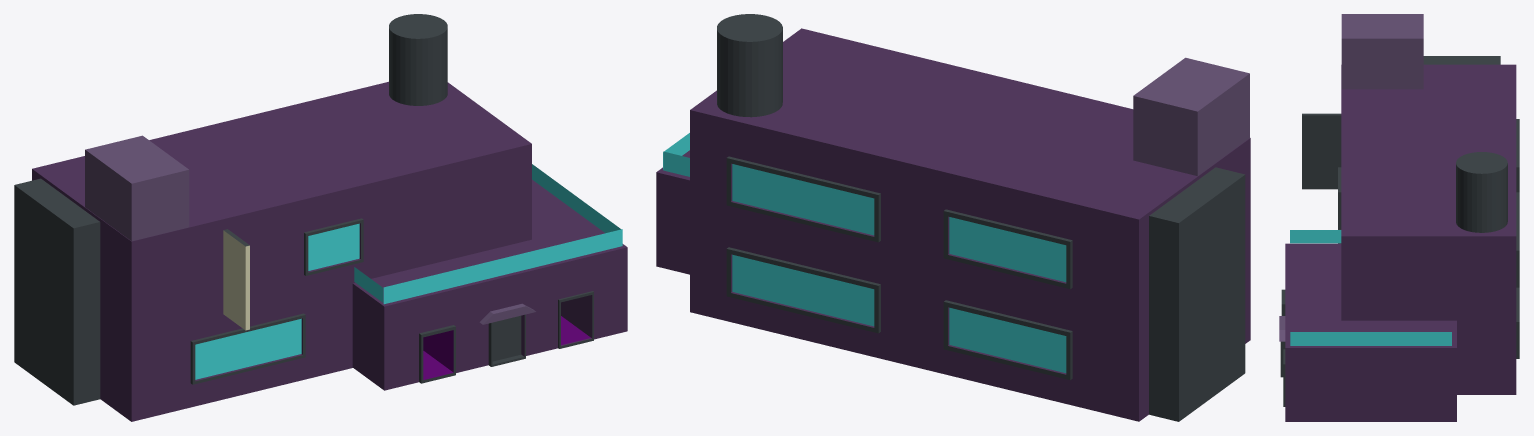
Rendered from Periode4Huis2.fbx.
3 views of the same model, side by side, from view 1: azimuth 30°, elevation 25°; view 2: azimuth 150°, elevation 25°; view 3: azimuth 270°, elevation 25° (orthographic). The views are drawn at different scales.
Visible parts, largest first — view 1: Cube, Cube.001, Cube.003, Cube.002, Cylinder, Plane.001, Cube.005, Plane, Cube.004; view 2: Cube, Cube.003, Cube.002, Cylinder, Cube.001; view 3: Cube, Cube.001, Cube.002, Cylinder, Cube.005, Plane, Plane.002, Cube.003.
Boxes of the visible parts, bbox=[...] form: Cube: bbox=[32, 81, 531, 421]; Cube.001: bbox=[352, 179, 627, 390]; Cube.003: bbox=[14, 178, 100, 405]; Cube.002: bbox=[85, 135, 189, 241]; Cylinder: bbox=[389, 14, 447, 105]; Plane.001: bbox=[383, 229, 622, 304]; Cube.005: bbox=[223, 229, 249, 330]; Plane: bbox=[532, 164, 620, 233]; Cube.004: bbox=[479, 303, 535, 324]; Cube: bbox=[690, 28, 1250, 421]; Cube.003: bbox=[1149, 167, 1245, 421]; Cube.002: bbox=[1133, 57, 1249, 176]; Cylinder: bbox=[717, 14, 782, 117]; Cube.001: bbox=[656, 150, 689, 274]; Cube: bbox=[1338, 64, 1519, 394]; Cube.001: bbox=[1280, 243, 1456, 421]; Cube.002: bbox=[1341, 14, 1423, 89]; Cylinder: bbox=[1456, 152, 1507, 232]; Cube.005: bbox=[1302, 113, 1341, 189]; Plane: bbox=[1290, 332, 1451, 345]; Plane.002: bbox=[1290, 230, 1341, 243]; Cube.003: bbox=[1423, 56, 1500, 64].
Bounding box in the file's own units: 3375 × 1627 × 1628.
